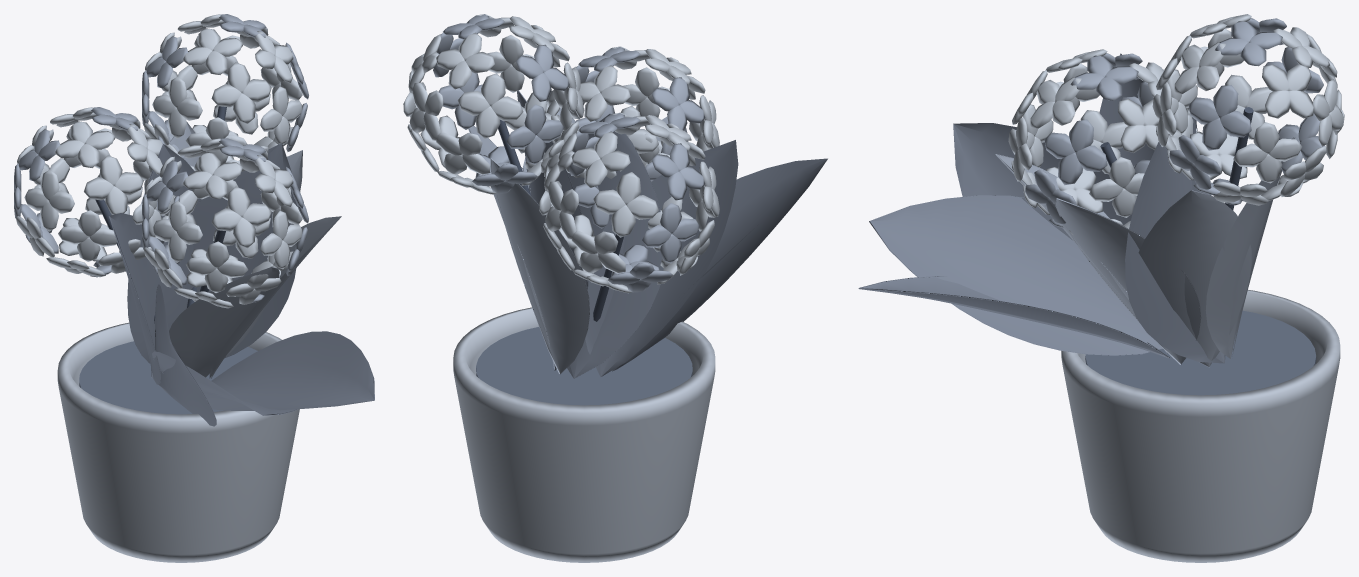
File: flower-hydrangea.glb
3 views of the same model, side by side, from view 1: azimuth 30°, elevation 25°; view 2: azimuth 150°, elevation 25°; view 3: azimuth 270°, elevation 25° (orthographic). The views are drawn at different scales.
Parts seen in each view (by area): view 1: accent, body, soft, flowercenter, light, glass, dark; view 2: body, accent, soft, flowercenter, glass, light, dark; view 3: body, soft, accent, light, flowercenter, glass, dark.
Part boxes in pixels (left/top/right/bottom): accent: left=15, top=14, right=302, bottom=308; body: left=57, top=322, right=299, bottom=562; soft: left=109, top=143, right=374, bottom=426; flowercenter: left=14, top=14, right=308, bottom=302; light: left=141, top=122, right=341, bottom=378; glass: left=79, top=341, right=257, bottom=414; dark: left=95, top=106, right=226, bottom=323; body: left=453, top=307, right=715, bottom=562; accent: left=403, top=14, right=719, bottom=293; soft: left=517, top=90, right=827, bottom=378; flowercenter: left=433, top=14, right=705, bottom=292; glass: left=476, top=327, right=692, bottom=405; light: left=468, top=101, right=688, bottom=374; dark: left=498, top=119, right=623, bottom=321; body: left=1061, top=290, right=1340, bottom=562; soft: left=858, top=53, right=1233, bottom=363; accent: left=1008, top=14, right=1344, bottom=234; light: left=995, top=137, right=1294, bottom=367; flowercenter: left=1025, top=18, right=1324, bottom=228; glass: left=1085, top=311, right=1316, bottom=395; dark: left=1100, top=107, right=1253, bottom=210.
Bounding box in the file's own units: 0.3899 × 0.64 × 0.5308.
